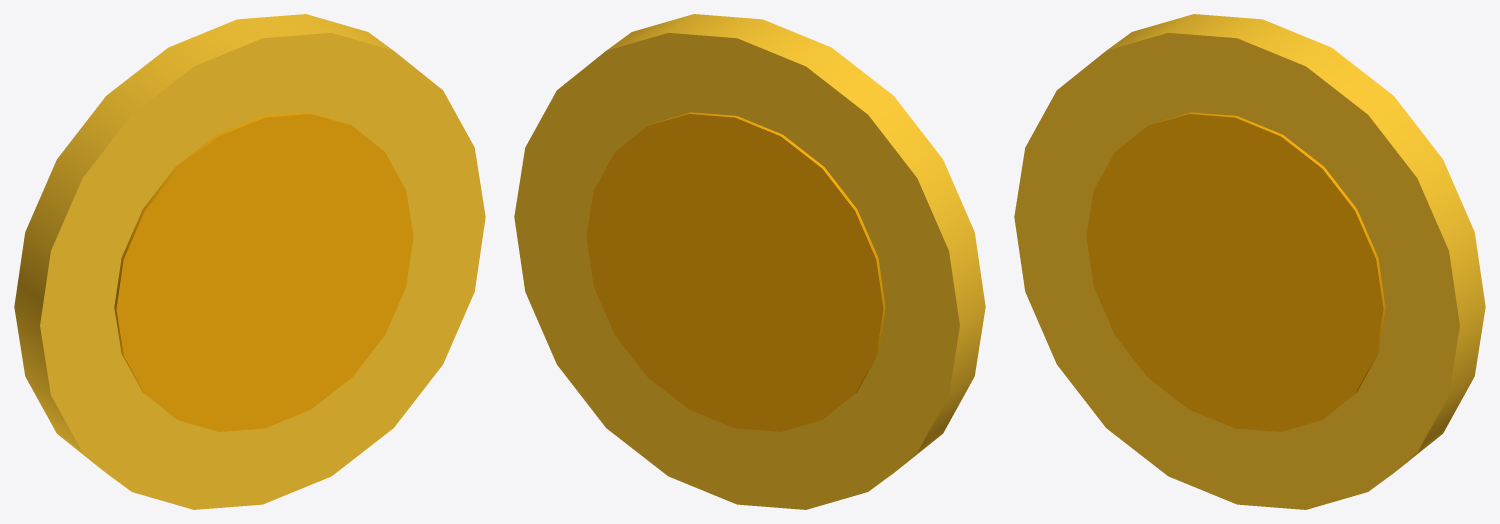
File: coin.glb
3 renders of one model, left to right at view 1: azimuth 30°, elevation 25°; view 2: azimuth 150°, elevation 25°; view 3: azimuth 330°, elevation 25°, orthographic.
Visible parts, largest first — view 1: coin; view 2: coin; view 3: coin.
Boxes of the visible parts, x1,y1,x2,y2 form: coin: (14,14,485,509); coin: (514,14,985,509); coin: (1014,14,1485,509).
Bounding box in the file's own units: 0.6 × 0.6 × 0.07.
